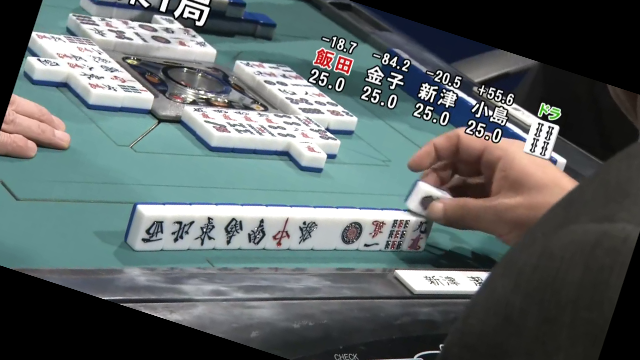Tehai: (121, 197, 442, 257)
